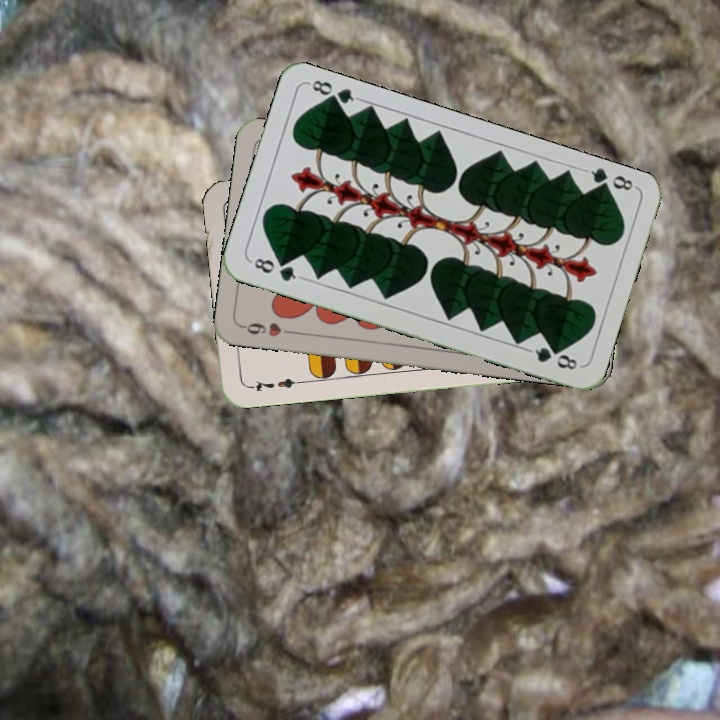E7: (245, 374, 304, 395)
G8: (581, 164, 638, 197), (247, 254, 304, 284)
H9: (238, 318, 297, 340)
